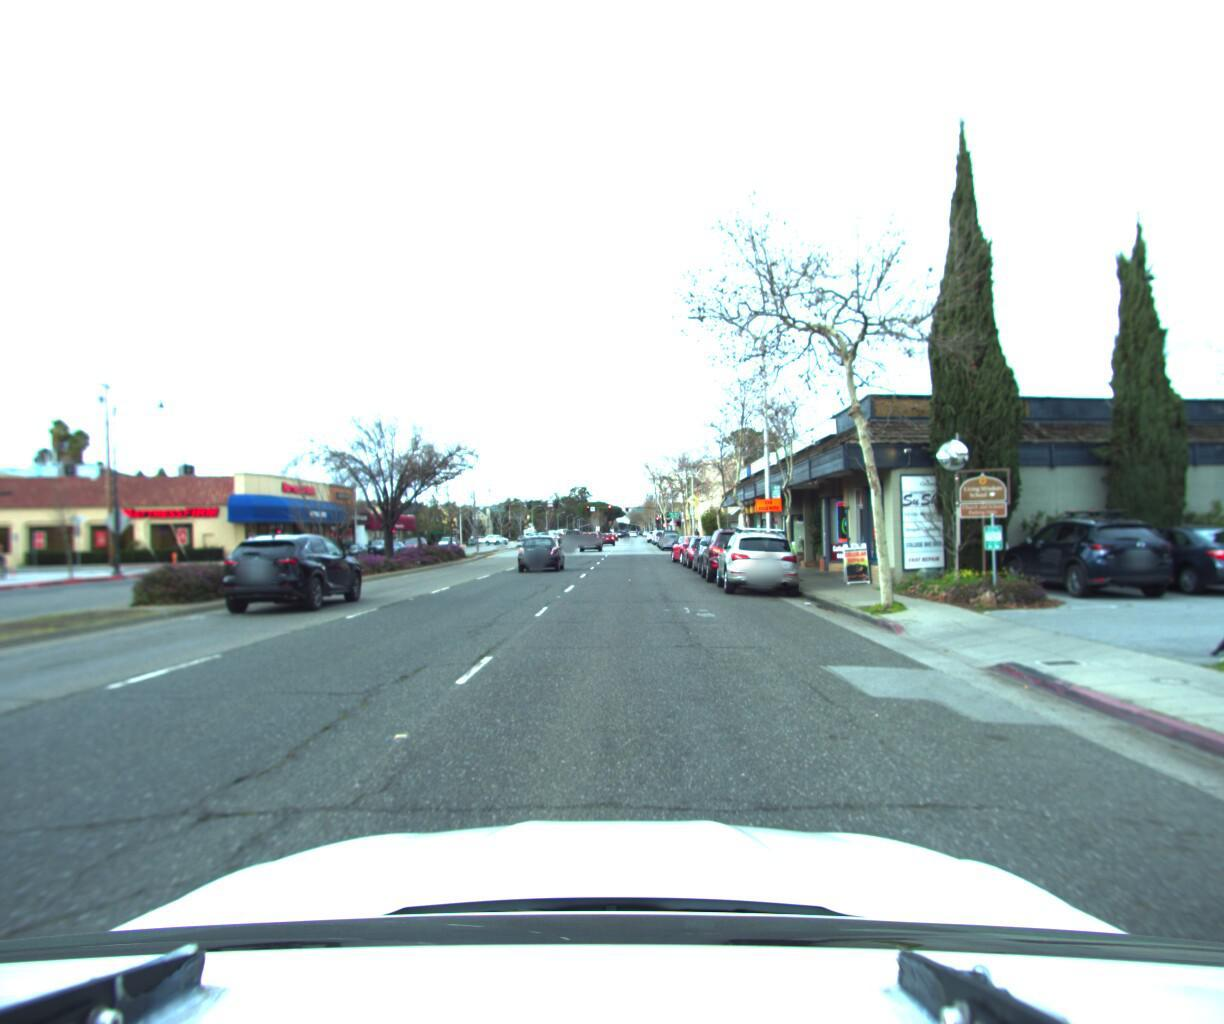car: (993, 495, 1183, 594), (210, 530, 373, 612), (1088, 513, 1224, 589), (711, 519, 802, 593), (698, 521, 768, 580), (687, 529, 742, 571), (515, 530, 568, 571), (1199, 511, 1224, 586), (668, 529, 719, 561), (678, 529, 722, 564), (655, 527, 681, 547), (576, 526, 601, 547)
